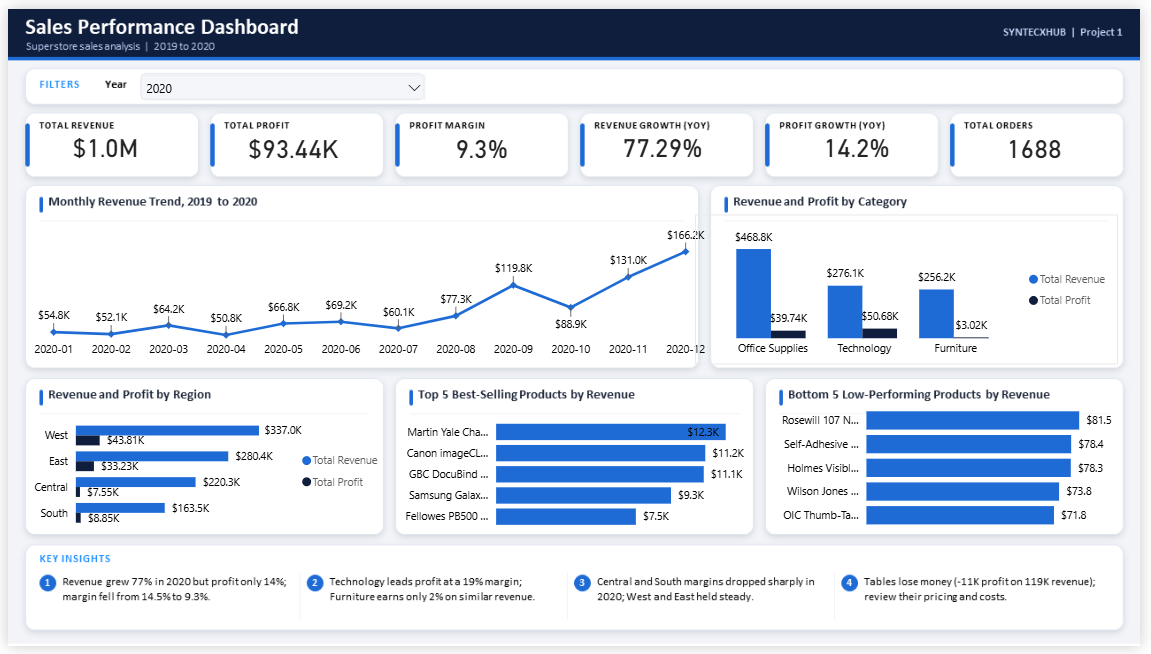

Layout of this report page (visuals, bound fields, positions):
{"tool":"powerbi","page":{"name":"Page 1","canvas":[1280,720],"ordinal":0},"visuals":[{"type":"card","fields":{"Values":["Sales.Total Revenue"]},"box":[57.8,134.4,104.4,42.2],"z":0},{"type":"card","fields":{"Values":["Sales.Profit Margin %"]},"box":[493.3,134.4,83.3,44.4],"z":1000},{"type":"card","fields":{"Values":["Sales.Profit YoY %"]},"box":[907.8,134.4,100,41.1],"z":2000},{"type":"card","fields":{"Values":["Sales.Revenue YoY %"]},"box":[683.3,134.4,112.2,41.1],"z":3000},{"type":"card","fields":{"Values":["Sales.Total Profit"]},"box":[264.4,128.9,115.6,55.6],"z":4000},{"type":"lineChart","title":"Monthly Revenue Trend, 2019 to 2020","fields":{"Y":["Sales.Total Revenue"],"Category":["Date.Year-Month"]},"box":[20,232,776,170],"z":5000},{"type":"clusteredBarChart","title":"Revenue and Profit by Region","fields":{"Category":["Sales.Region"],"Y":["Sales.Total Revenue","Sales.Total Profit"]},"box":[20,446,412,152],"z":6000},{"type":"clusteredColumnChart","fields":{"Category":["Sales.Category"],"Y":["Sales.Total Revenue","Sales.Total Profit"]},"box":[776.3,232.2,478,169.5],"z":7000},{"type":"clusteredBarChart","title":"Bottom 5 Low-Performing Products by Revenue","fields":{"Category":["Sales.Product Name"],"Y":["Sales.Total Revenue"]},"box":[858,430,396,168],"z":8000},{"type":"clusteredBarChart","title":"Top 5 Best-Selling Products by Revenue","fields":{"Category":["Sales.Product Name"],"Y":["Sales.Total Revenue"]},"box":[432,446,426,152],"z":9000},{"type":"slicer","fields":{"Values":["Date.Year"]},"box":[140.8,64.2,340.8,54.2],"z":9001},{"type":"card","fields":{"Values":["Sales.Total Orders"]},"box":[1115.6,134.4,87.8,43.3],"z":9002}]}

Visuals, with their boxes in screenshot pixels (x1, y1, x2, y2), scaled from the page's 1280x720 canvas onto the 1151x654 screenshot:
card - Sales.Total Revenue: Rect(52, 122, 146, 160)
card - Sales.Profit Margin %: Rect(444, 122, 518, 162)
card - Sales.Profit YoY %: Rect(816, 122, 906, 159)
card - Sales.Revenue YoY %: Rect(614, 122, 715, 159)
card - Sales.Total Profit: Rect(238, 117, 342, 168)
"Monthly Revenue Trend, 2019 to 2020" lineChart: Rect(18, 211, 716, 365)
"Revenue and Profit by Region" clusteredBarChart: Rect(18, 405, 388, 543)
clusteredColumnChart - Sales.Category x Sales.Total Revenue: Rect(698, 211, 1128, 365)
"Bottom 5 Low-Performing Products by Revenue" clusteredBarChart: Rect(772, 391, 1128, 543)
"Top 5 Best-Selling Products by Revenue" clusteredBarChart: Rect(388, 405, 772, 543)
slicer - Date.Year: Rect(127, 58, 433, 108)
card - Sales.Total Orders: Rect(1003, 122, 1082, 161)
